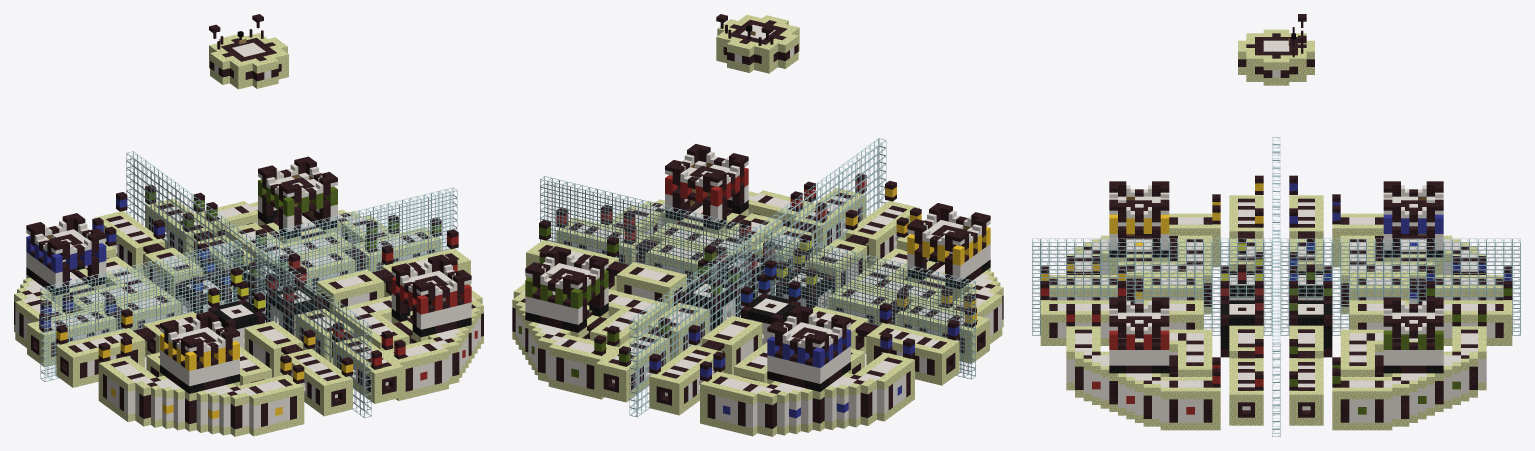
Rendered from minecraft.obj.
3 views of the same model, side by side, from view 1: azimuth 30°, elevation 25°; view 2: azimuth 150°, elevation 25°; view 3: azimuth 270°, elevation 25° (orthographic). The views are drawn at different scales.
Size of the model in its own units: 57 by 40.5 by 57.
